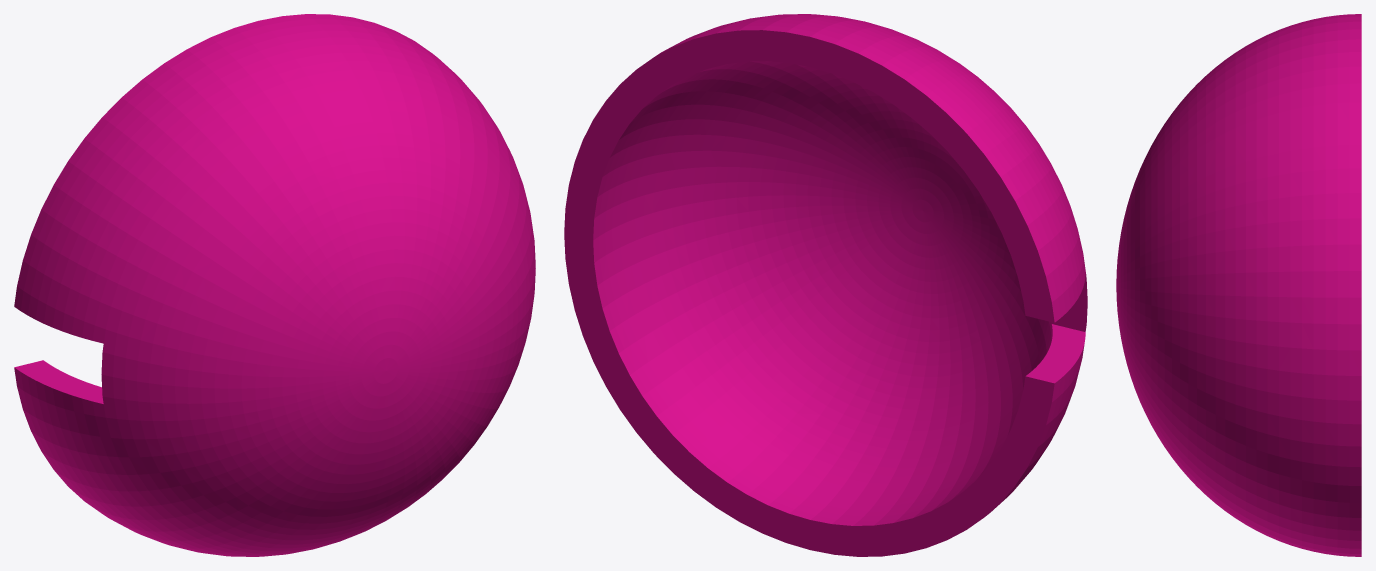
The model's file is Island_Roof_Gold.obj.
3 views of the same model, side by side, from view 1: azimuth 30°, elevation 25°; view 2: azimuth 150°, elevation 25°; view 3: azimuth 270°, elevation 25° (orthographic). The views are drawn at different scales.
Parts seen in each view (by area): view 1: obj_0; view 2: obj_0; view 3: obj_0.
Boxes of the visible parts, x1,y1,x2,y2 form: obj_0: (14,14,535,556); obj_0: (564,14,1087,556); obj_0: (1116,14,1361,556).
Size of the model in its own units: 31 by 31 by 14.
